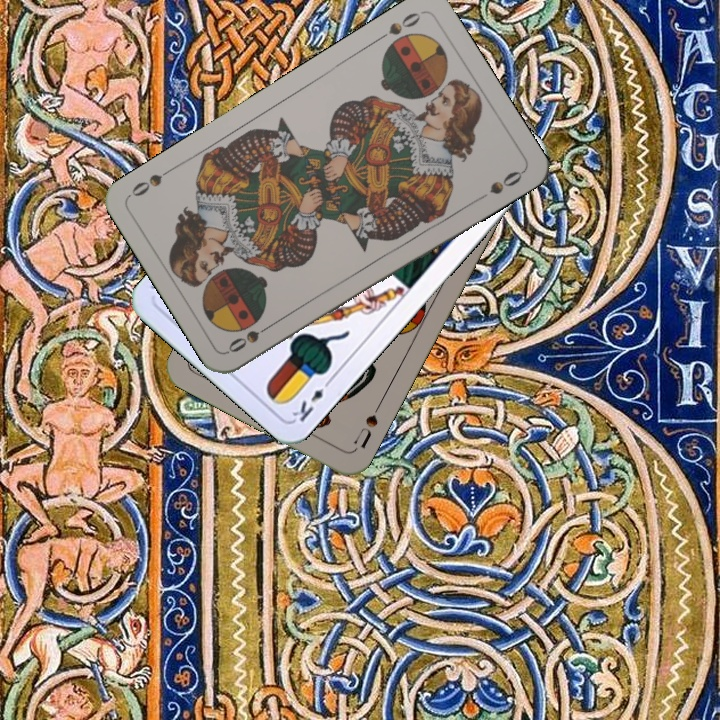EK: (288, 374, 336, 425)
SO: (224, 318, 278, 356), (372, 7, 425, 45)
SU: (350, 398, 384, 451)
